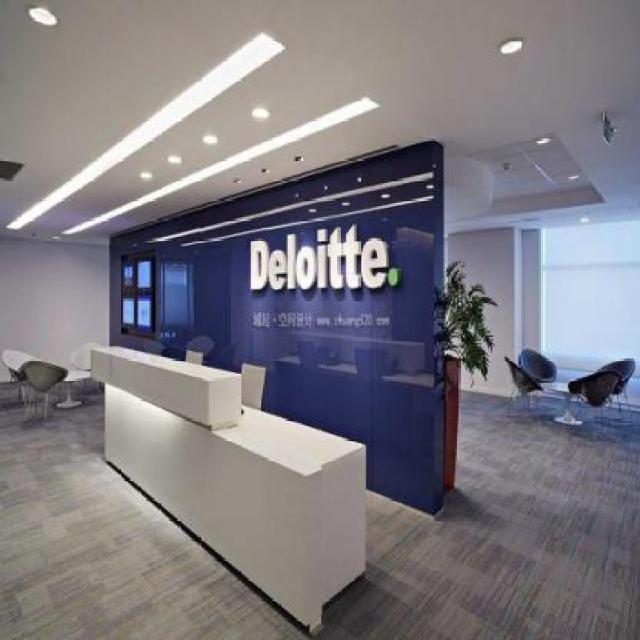frontdesk: (85, 336, 370, 640)
